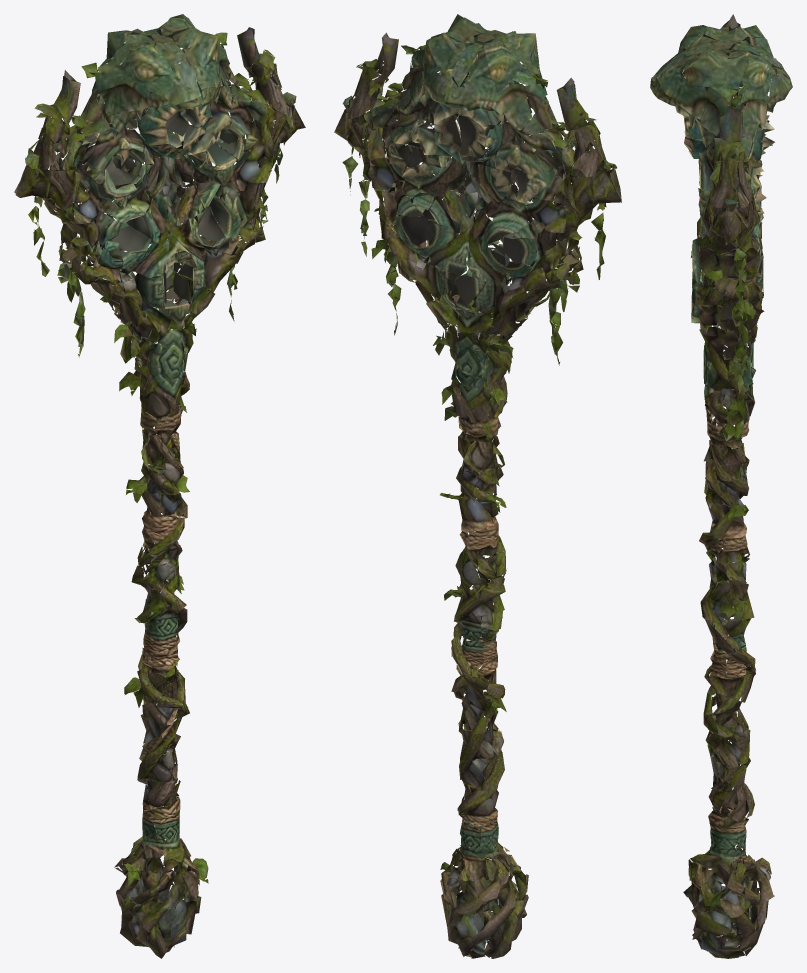
File: sceptre-phone.glb
3 views of the same model, side by side, from view 1: azimuth 30°, elevation 25°; view 2: azimuth 150°, elevation 25°; view 3: azimuth 270°, elevation 25° (orthographic).
Parts seen in each view (by area): view 1: Mesh_0; view 2: Mesh_0; view 3: Mesh_0.
Part boxes in pixels (x1=…): Mesh_0: x1=14, y1=14, x2=305, y2=958; Mesh_0: x1=334, y1=14, x2=621, y2=958; Mesh_0: x1=650, y1=14, x2=792, y2=958.
Bounding box in the file's own units: 0.626 × 1.9 × 0.2682.
Materials: 1 (1 with a texture image).
